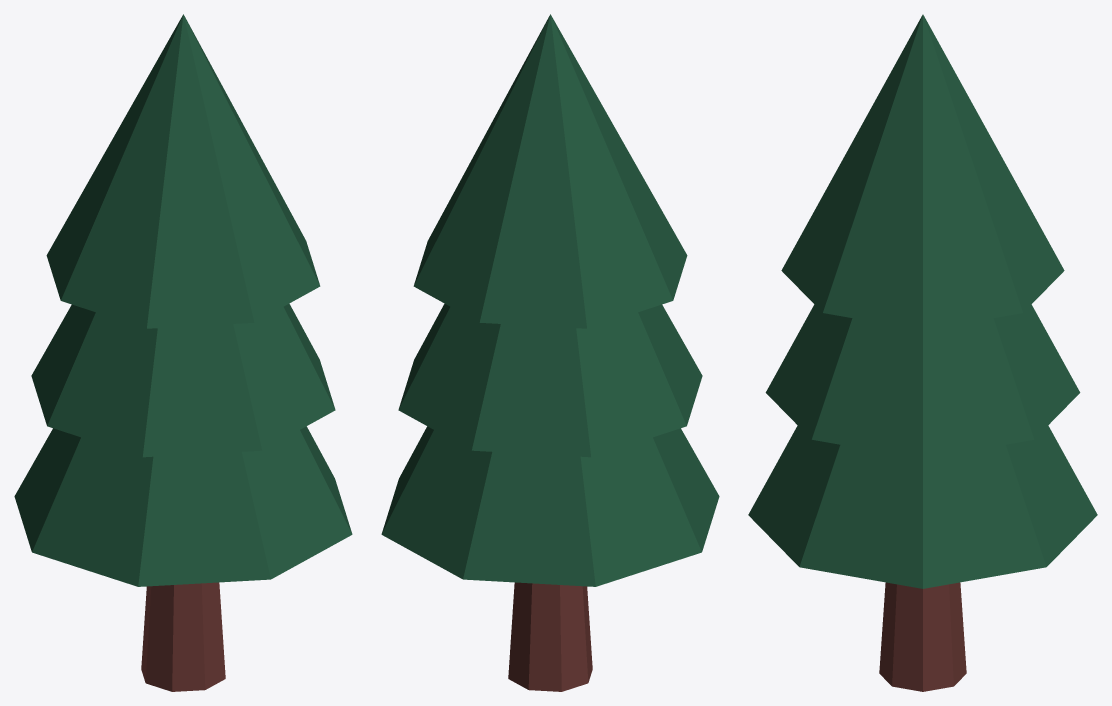
File: ConiferTree0.fbx
3 views of the same model, side by side, from view 1: azimuth 30°, elevation 25°; view 2: azimuth 150°, elevation 25°; view 3: azimuth 270°, elevation 25° (orthographic).
Parts seen in each view (by area): view 1: ConiferTree0; view 2: ConiferTree0; view 3: ConiferTree0.
Part boxes in pixels (x1=…): ConiferTree0: x1=14, y1=14, x2=352, y2=691; ConiferTree0: x1=381, y1=14, x2=719, y2=691; ConiferTree0: x1=748, y1=14, x2=1097, y2=691.
Bounding box in the file's own units: 200 × 416 × 200.
